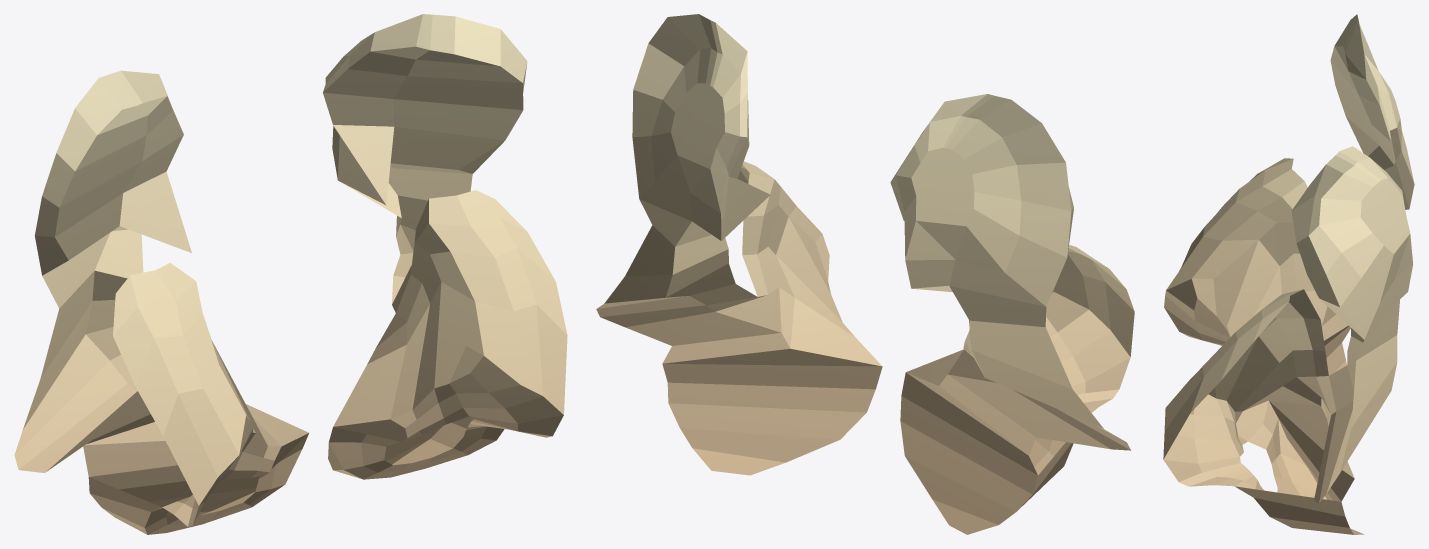
Rendered from ilium.fbx.
The picture shows the model from 3 angles, left to right: view 1: azimuth 30°, elevation 25°; view 2: azimuth 150°, elevation 25°; view 3: azimuth 270°, elevation 25°; orthographic projection. The views are drawn at different scales.
Parts seen in each view (by area): view 1: Ilium; view 2: Ilium; view 3: Ilium.
Boxes of the visible parts, x1=… form: Ilium: x1=14, y1=14, x2=567, y2=534; Ilium: x1=596, y1=14, x2=1134, y2=534; Ilium: x1=1163, y1=14, x2=1414, y2=534.
Size of the model in its own units: 35.98 by 28.94 by 16.53.
